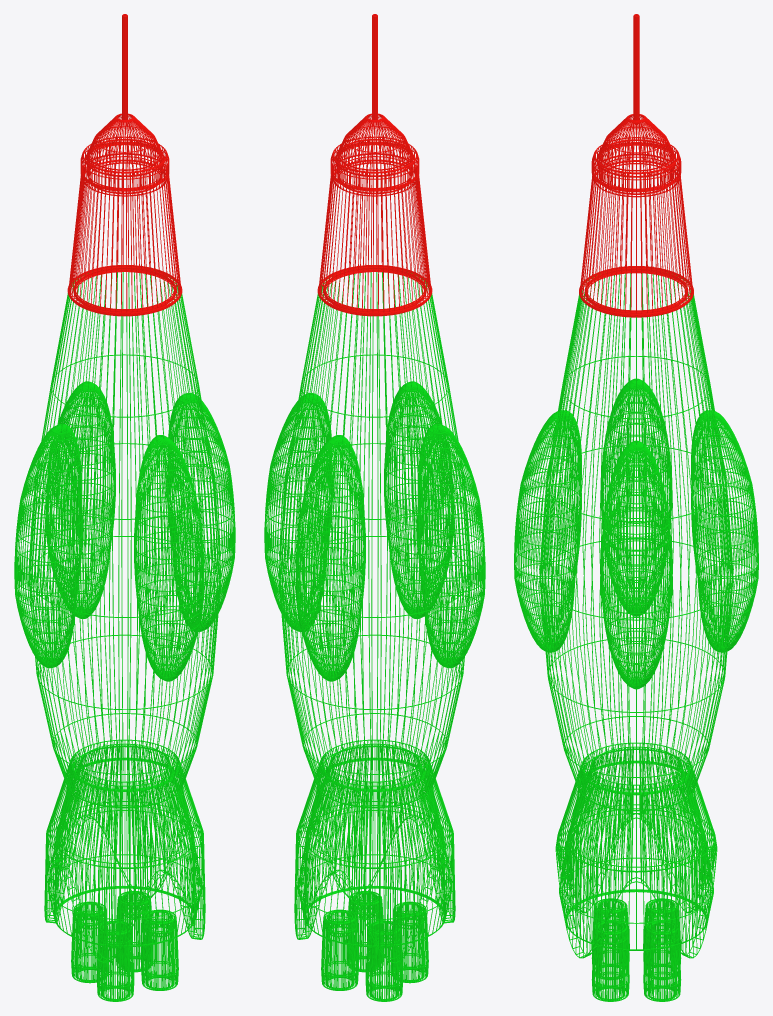
Rendered from anti-virus-missile-highlight-nose-navigation-assembly.glb.
3 views of the same model, side by side, from view 1: azimuth 30°, elevation 25°; view 2: azimuth 150°, elevation 25°; view 3: azimuth 270°, elevation 25° (orthographic).
Parts seen in each view (by area): view 1: chassis technical wire, anti-viral-payload-pods technical wire, nose-navigation-assembly technical wire, four-main-rocket-thrusters technical wire; view 2: chassis technical wire, anti-viral-payload-pods technical wire, nose-navigation-assembly technical wire, four-main-rocket-thrusters technical wire; view 3: chassis technical wire, anti-viral-payload-pods technical wire, nose-navigation-assembly technical wire, four-main-rocket-thrusters technical wire.
Part boxes in pixels (bbox=[...]): chassis technical wire: bbox=[29, 272, 221, 963]; anti-viral-payload-pods technical wire: bbox=[14, 381, 235, 681]; nose-navigation-assembly technical wire: bbox=[67, 14, 182, 316]; four-main-rocket-thrusters technical wire: bbox=[71, 891, 178, 1001]; chassis technical wire: bbox=[278, 272, 470, 963]; anti-viral-payload-pods technical wire: bbox=[264, 381, 485, 681]; nose-navigation-assembly technical wire: bbox=[317, 14, 432, 316]; four-main-rocket-thrusters technical wire: bbox=[321, 891, 428, 1001]; chassis technical wire: bbox=[540, 272, 732, 958]; anti-viral-payload-pods technical wire: bbox=[514, 378, 758, 689]; nose-navigation-assembly technical wire: bbox=[579, 14, 693, 317]; four-main-rocket-thrusters technical wire: bbox=[591, 898, 681, 1001].
Size of the model in its own units: 1.39 by 6.07 by 1.39.
